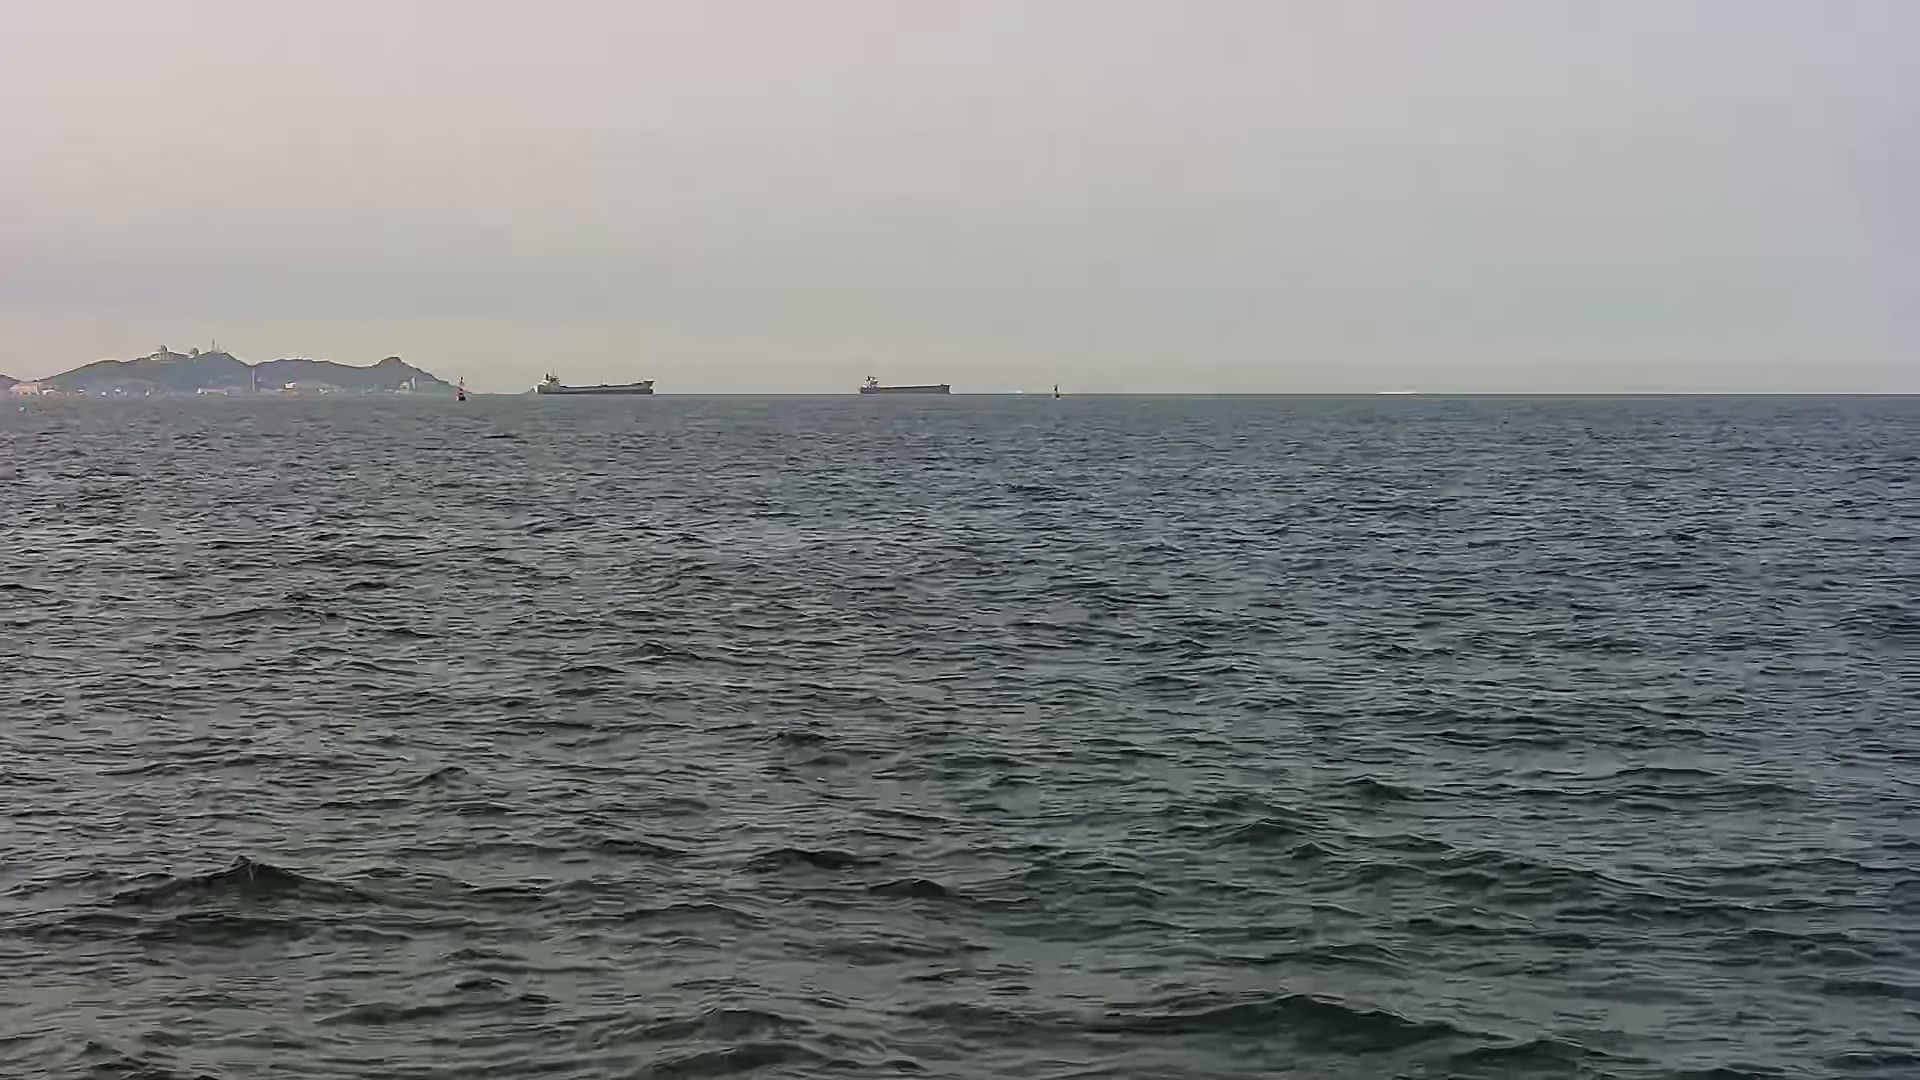ship: (849, 371, 960, 407), (525, 371, 655, 396)
